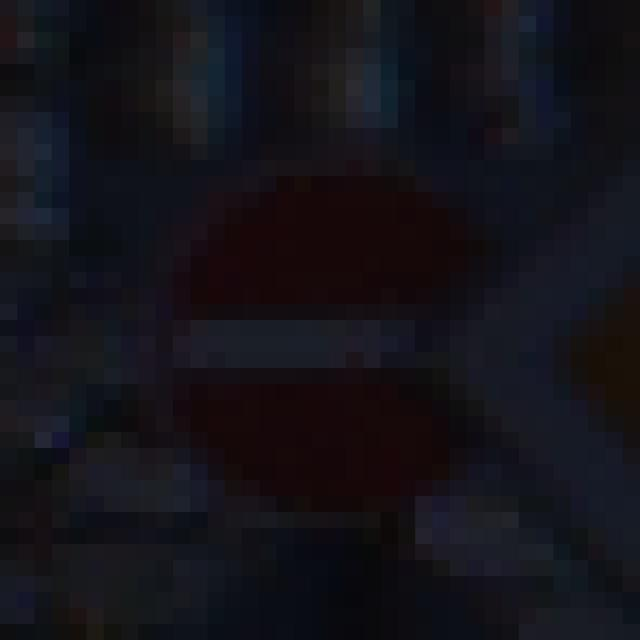No Entry: (105, 97, 554, 561)
